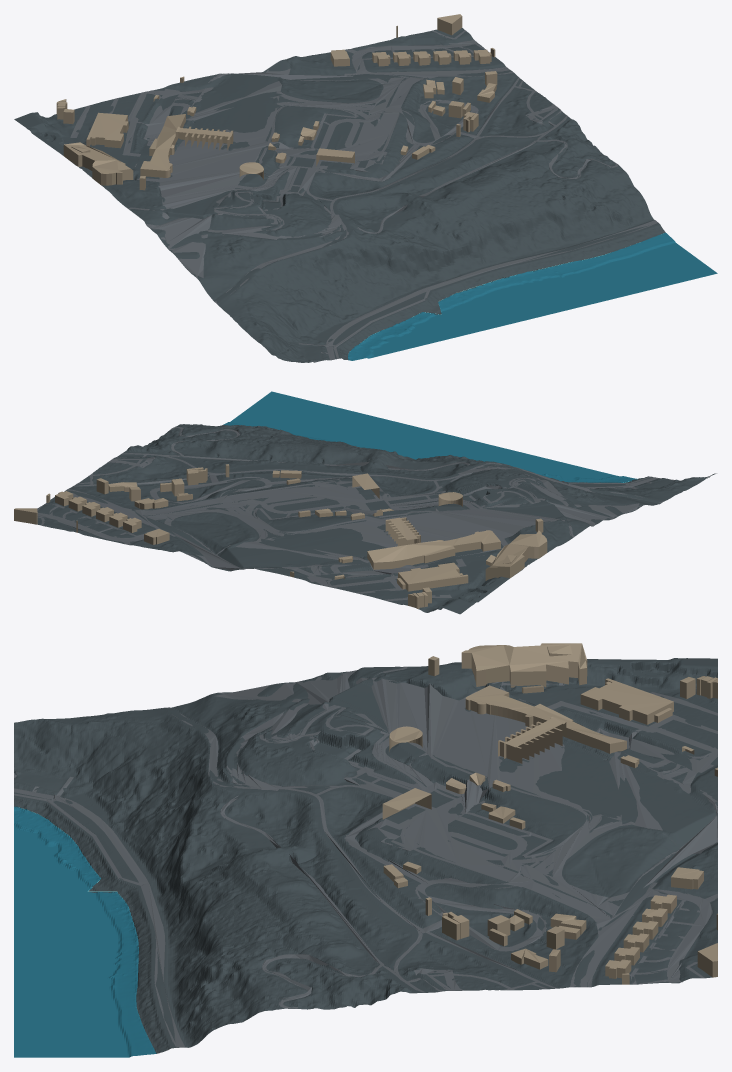
File: epsg26910-1422-10897.lod0.glb
3 renders of one model, top to bottom at view 1: azimuth 30°, elevation 25°; view 2: azimuth 150°, elevation 25°; view 3: azimuth 270°, elevation 25°, orthographic. The views are drawn at different scales.
Parts seen in each view (by area): view 1: epsg26910-1422-10897-lod0; view 2: epsg26910-1422-10897-lod0; view 3: epsg26910-1422-10897-lod0.
Boxes of the visible parts, bbox=[...] form: epsg26910-1422-10897-lod0: bbox=[14, 14, 717, 362]; epsg26910-1422-10897-lod0: bbox=[14, 391, 716, 614]; epsg26910-1422-10897-lod0: bbox=[14, 643, 717, 1057].
Size of the model in its own units: 384 by 71.45 by 384.
